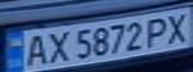2: (124, 18, 148, 52)
5: (72, 26, 93, 60)
7: (106, 21, 130, 55)
8: (90, 24, 112, 57)
A: (18, 31, 51, 69)
P: (142, 15, 172, 48)
X: (160, 10, 193, 44), (42, 28, 72, 65)
